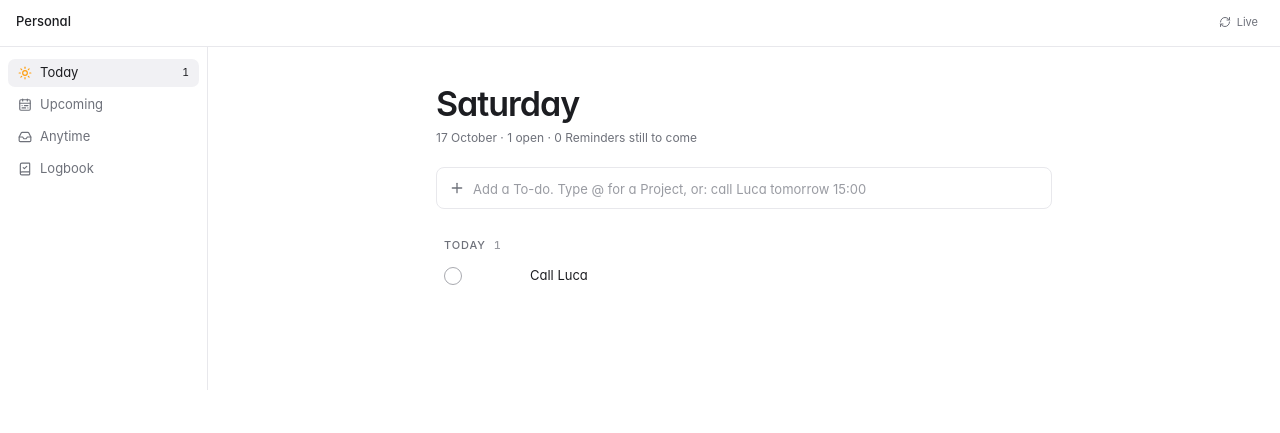
Test: the check › puts the To-do back with the API's error under it when the write is refused
Click the button named "Mark “Call Luca” done" at (453, 276), box 438,260 -> 468,290
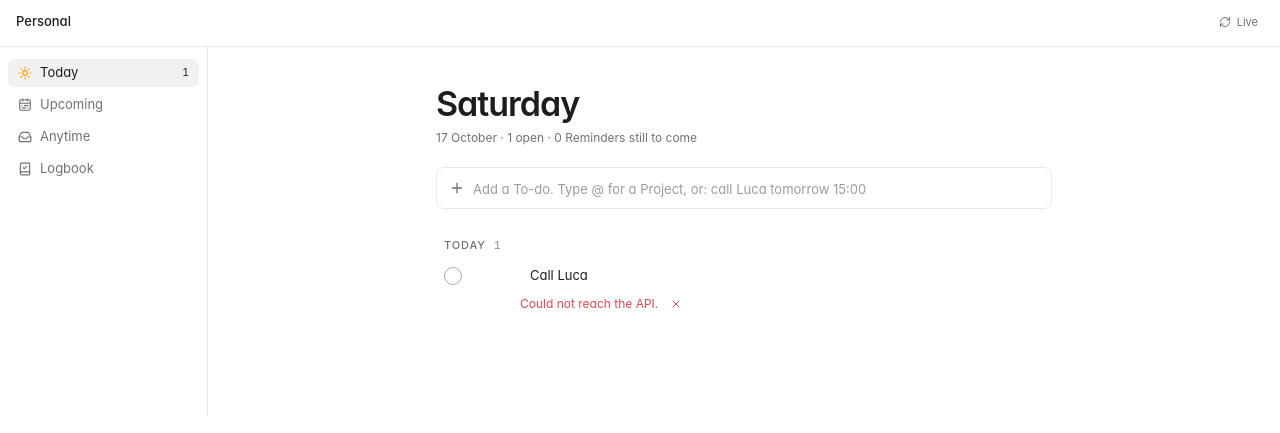
Now the message reads "Could not reach the API.", box 520,296 -> 658,310
